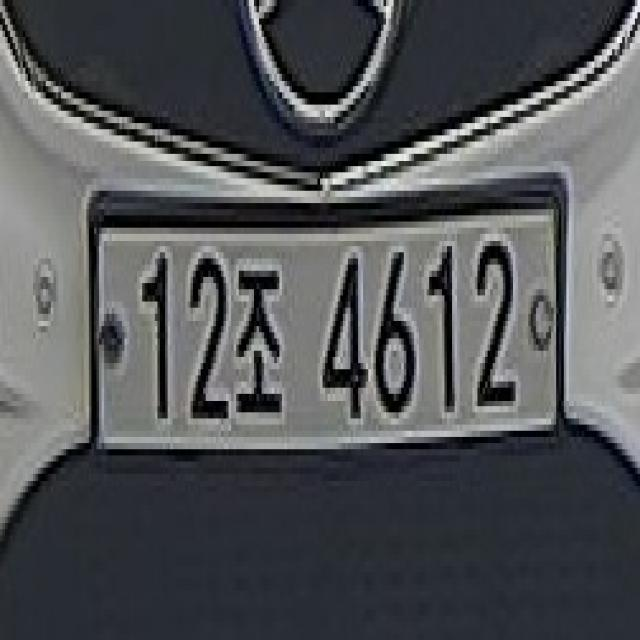1: (421, 228, 470, 437), (137, 234, 178, 443)
2: (472, 234, 524, 431), (183, 240, 234, 437)
4: (317, 246, 371, 437)
6: (371, 240, 419, 437)
jo: (234, 265, 287, 437)
license_plate: (84, 172, 569, 468)
